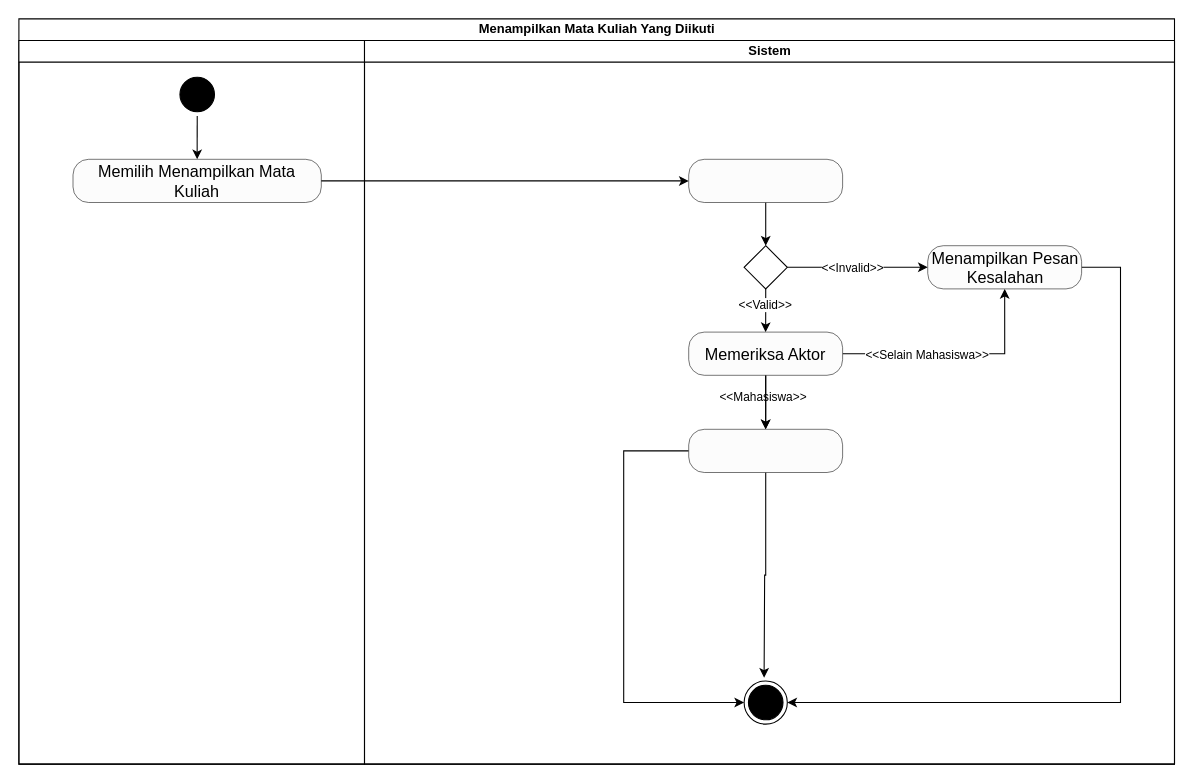
The diagram is 1193 pixels wide and 783 high, and some of its shapes have lost their labels. The box of each missing label's shape, as (x1, y1, x2, y2) in pixels:
Mahasiswa: (18, 39, 364, 764)
Memeriksa Status Login: (688, 159, 842, 202)
Menampilkan Seluruh Mata Kuliah: (688, 429, 842, 472)
